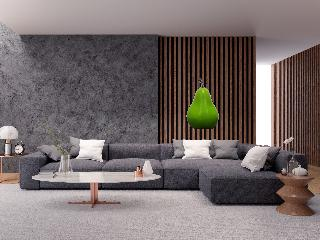pear: (184, 77, 222, 132)
